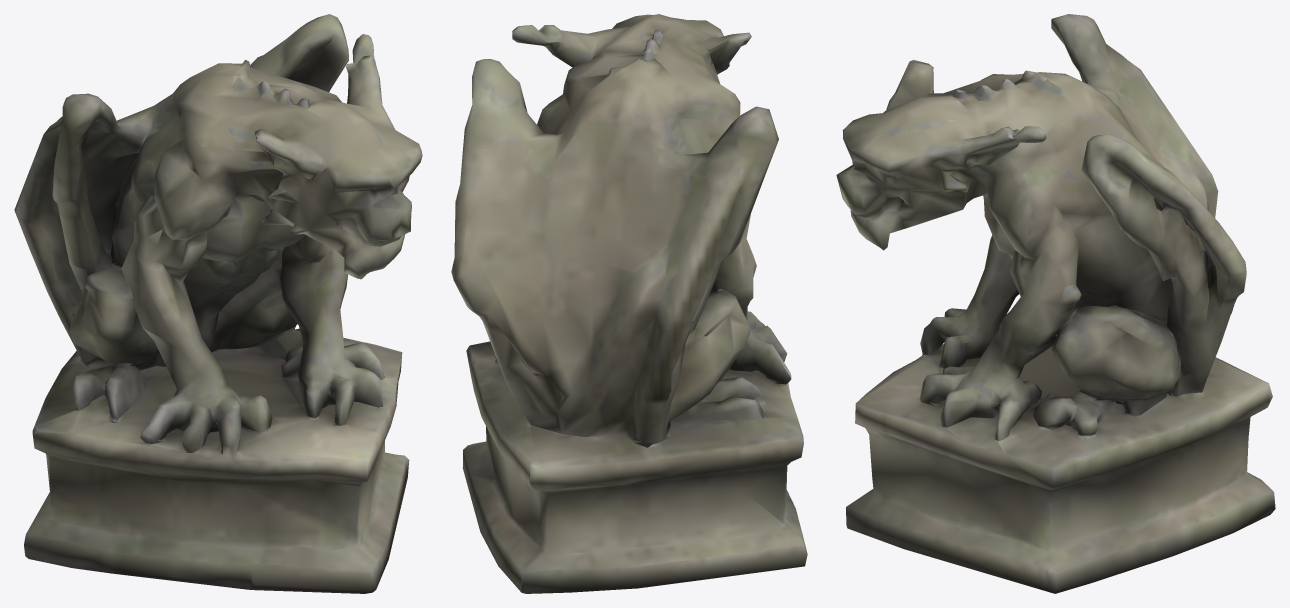
The model's file is rustic-limestone-gargoyle-v002.glb.
The picture shows the model from 3 angles, left to right: view 1: azimuth 30°, elevation 25°; view 2: azimuth 150°, elevation 25°; view 3: azimuth 270°, elevation 25°; orthographic projection. The views are drawn at different scales.
Parts seen in each view (by area): view 1: rustic-limestone-gargoyle; view 2: rustic-limestone-gargoyle; view 3: rustic-limestone-gargoyle.
Boxes of the visible parts, left/top/right/bottom form: rustic-limestone-gargoyle: left=14, top=14, right=422, bottom=593; rustic-limestone-gargoyle: left=451, top=14, right=807, bottom=593; rustic-limestone-gargoyle: left=836, top=14, right=1275, bottom=593.
Size of the model in its own units: 0.9755 by 1.17 by 1.05.
Materials: 1 (1 with a texture image).
